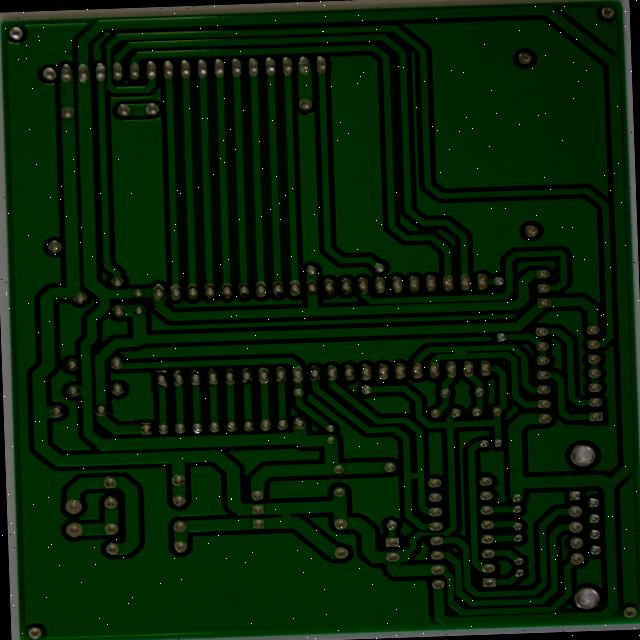short: (286, 513, 311, 545), (416, 476, 443, 499), (468, 350, 491, 370)
